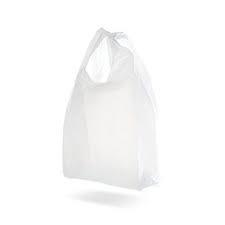Plastic bag: (50, 13, 179, 197)
